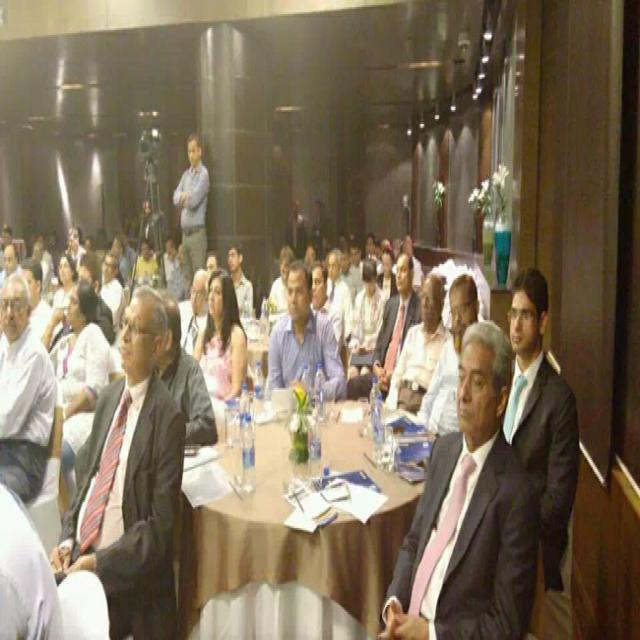body: (373, 316, 545, 640), (43, 283, 189, 640), (48, 285, 188, 640), (501, 262, 580, 593), (55, 276, 111, 520), (0, 269, 57, 502), (263, 257, 348, 406), (345, 250, 425, 404), (418, 269, 486, 444), (272, 257, 346, 406), (153, 288, 220, 448), (191, 266, 250, 406), (198, 268, 250, 408), (47, 250, 116, 355), (171, 131, 212, 304), (346, 257, 387, 404), (303, 231, 401, 287), (346, 255, 387, 385), (19, 255, 65, 357), (0, 222, 57, 299), (64, 220, 136, 280), (321, 245, 354, 353), (179, 266, 214, 357), (265, 240, 297, 339), (181, 266, 213, 360), (97, 248, 128, 334), (225, 238, 254, 327), (51, 252, 80, 330), (391, 231, 426, 292), (308, 192, 330, 285), (285, 196, 309, 262), (374, 245, 400, 301), (137, 194, 156, 261), (0, 241, 24, 292), (132, 241, 158, 287), (160, 238, 180, 281), (399, 192, 412, 250), (206, 248, 220, 274)
